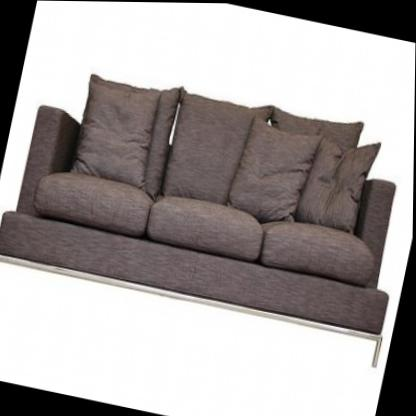Sofa: (0, 50, 415, 372)
